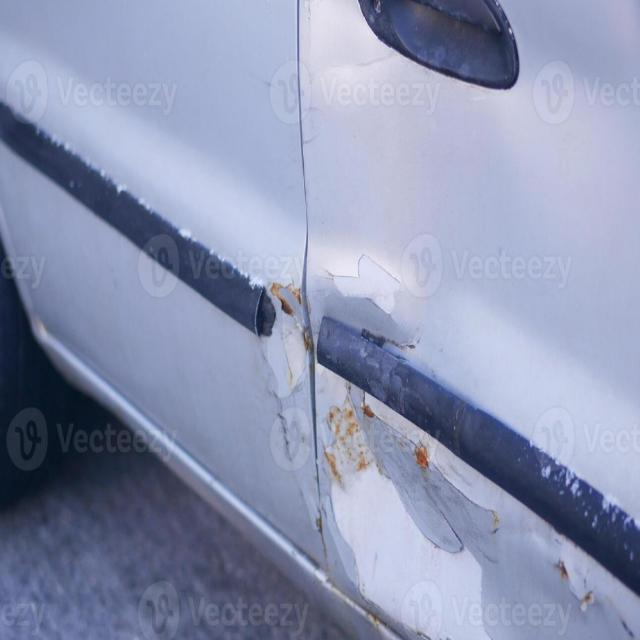Rust: (319, 318, 626, 593), (0, 101, 272, 336), (364, 423, 499, 579), (374, 432, 499, 569), (384, 456, 504, 585), (265, 284, 305, 393), (329, 255, 400, 314), (329, 400, 371, 471), (330, 407, 359, 448), (362, 330, 420, 349), (271, 283, 301, 317), (271, 284, 300, 316), (460, 512, 486, 547), (257, 296, 275, 336), (452, 403, 466, 454), (272, 285, 293, 316), (362, 330, 398, 347), (401, 324, 423, 350), (325, 452, 341, 483), (317, 514, 327, 558), (346, 410, 359, 438), (454, 403, 466, 433), (414, 445, 429, 468), (329, 406, 340, 436), (356, 451, 371, 471), (286, 360, 296, 389), (620, 617, 634, 637), (287, 285, 301, 305), (288, 285, 301, 305), (556, 560, 569, 580), (581, 592, 594, 611), (345, 422, 359, 438), (367, 613, 381, 628), (358, 452, 369, 471), (362, 404, 375, 418), (304, 332, 313, 352), (304, 333, 313, 352), (492, 510, 499, 532), (453, 426, 459, 451), (357, 457, 367, 471), (330, 406, 339, 421), (454, 404, 461, 423), (582, 592, 594, 603), (358, 458, 368, 471), (423, 404, 433, 417), (316, 515, 322, 536), (288, 368, 294, 388), (322, 535, 327, 558), (371, 616, 380, 628), (347, 449, 355, 462), (376, 463, 384, 475), (346, 409, 354, 420), (404, 343, 416, 350), (306, 299, 311, 315), (396, 440, 404, 448), (347, 382, 352, 394)
